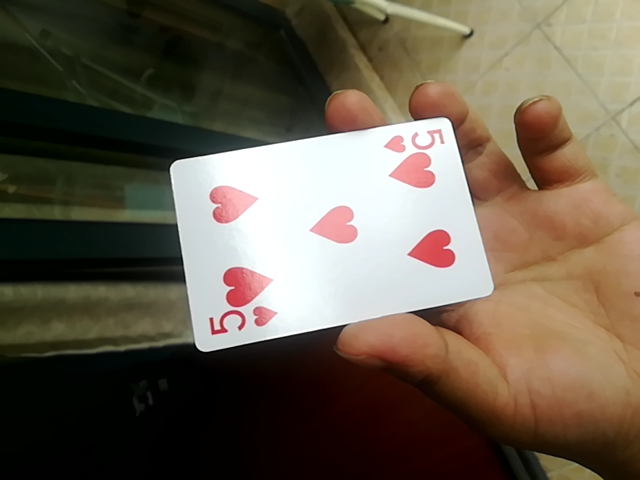hx 5: (163, 114, 493, 354)
